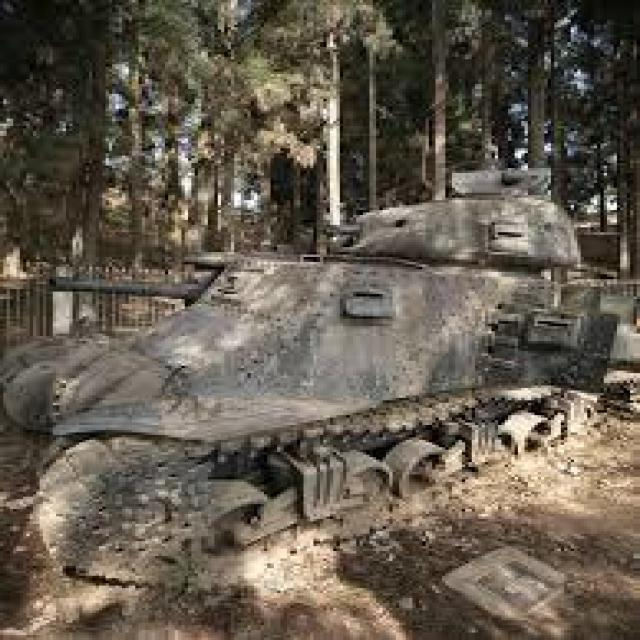Tanks: (58, 179, 622, 520)
